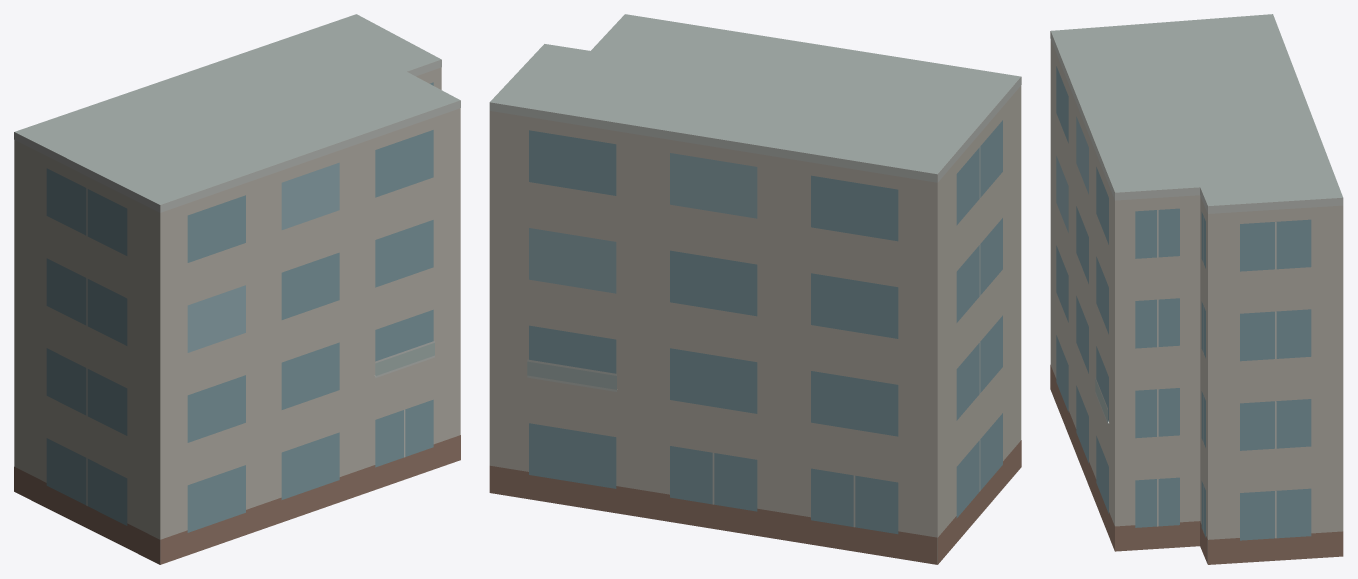
Rendered from survey-upis-32518062.glb.
3 renders of one model, left to right at view 1: azimuth 30°, elevation 25°; view 2: azimuth 150°, elevation 25°; view 3: azimuth 270°, elevation 25°, orthographic. The views are drawn at different scales.
Visible parts, largest first — view 1: survey-upis-32518062.tmp; view 2: survey-upis-32518062.tmp; view 3: survey-upis-32518062.tmp.
Boxes of the visible parts, x1=… form: survey-upis-32518062.tmp: x1=14, y1=14, x2=460, y2=564; survey-upis-32518062.tmp: x1=489, y1=14, x2=1021, y2=564; survey-upis-32518062.tmp: x1=1050, y1=14, x2=1343, y2=564.
Bounding box in the file's own units: 12.93 × 11.25 × 8.33.
